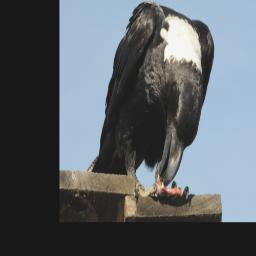Crow: (86, 0, 217, 203)
